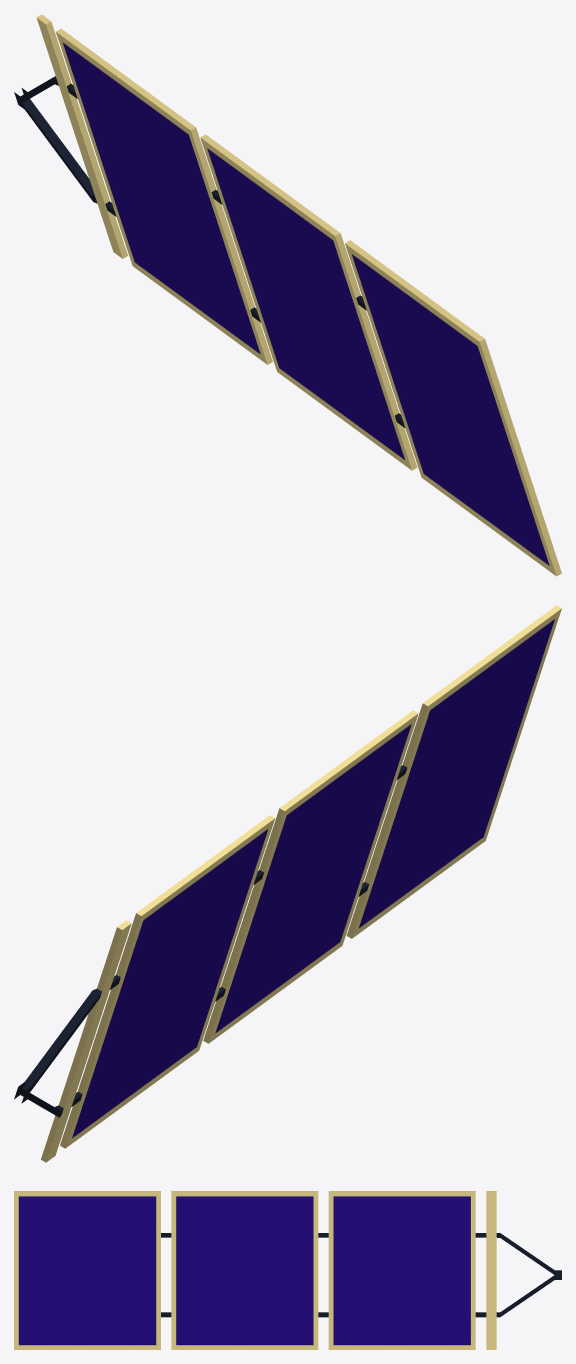
The model's file is SatelitePanelIzquierdo.glb.
3 views of the same model, one above another, from view 1: azimuth 30°, elevation 25°; view 2: azimuth 150°, elevation 25°; view 3: azimuth 270°, elevation 25° (orthographic). The views are drawn at different scales.
Parts seen in each view (by area): view 1: PanelIzquierdo; view 2: PanelIzquierdo; view 3: PanelIzquierdo.
Part boxes in pixels (<box>): PanelIzquierdo: <box>14,14,561,576</box>; PanelIzquierdo: <box>14,605,561,1162</box>; PanelIzquierdo: <box>14,1191,561,1349</box>.
Size of the model in its own units: 0.1584 by 0.4695 by 1.68.
1 material, 1 textured.
